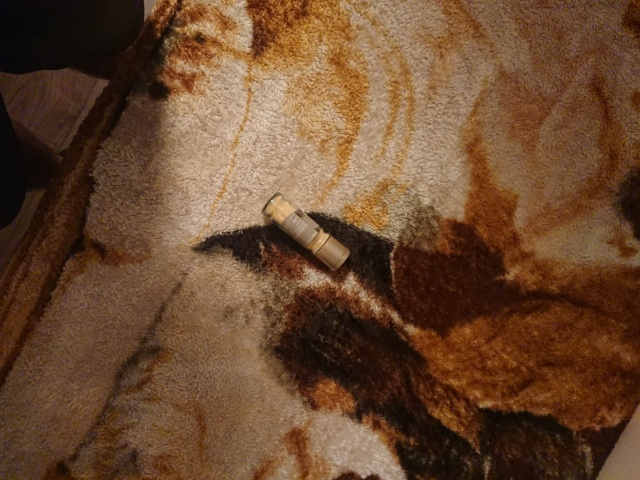Kotanyi Garlic Granules 70g: (258, 188, 352, 274)
